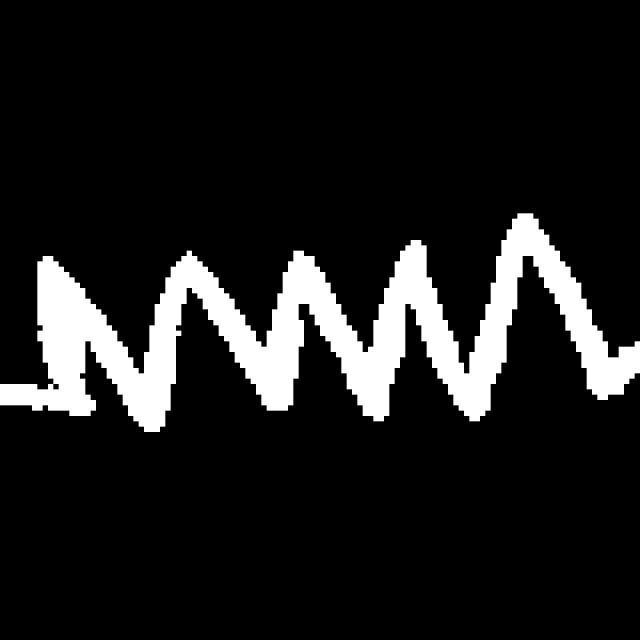resistor: (22, 208, 632, 469)
